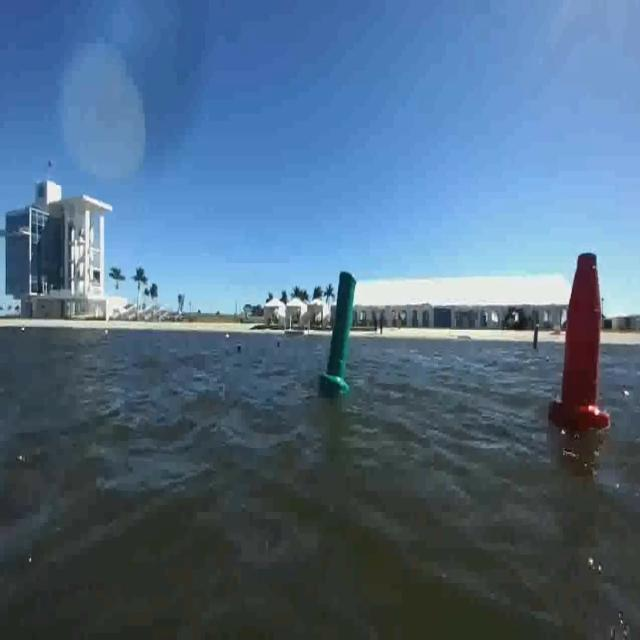green-column-buoy: (322, 269, 358, 396)
red-column-buoy: (550, 250, 610, 433)
